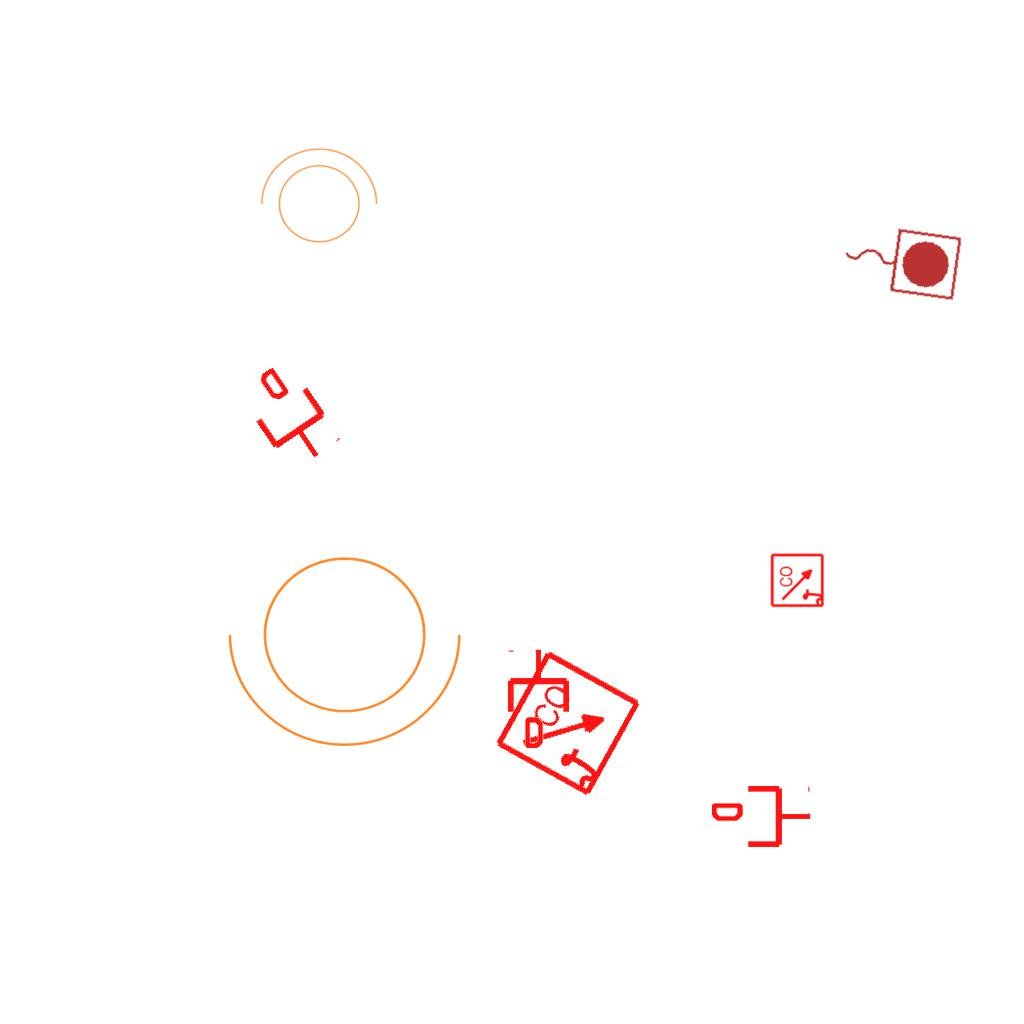Datenanschluss_einfach: (232, 355, 347, 477), (712, 782, 812, 851), (504, 648, 573, 748)
ROA_Rauchmelder_optisch_mit_Signalgeber_(Sockelsirene): (492, 646, 647, 801), (770, 552, 826, 608)
Scheinwerfer_fuer_Alarmbeleuchtung: (219, 532, 483, 757), (250, 143, 382, 255)
Zugtaster: (835, 215, 967, 305)
